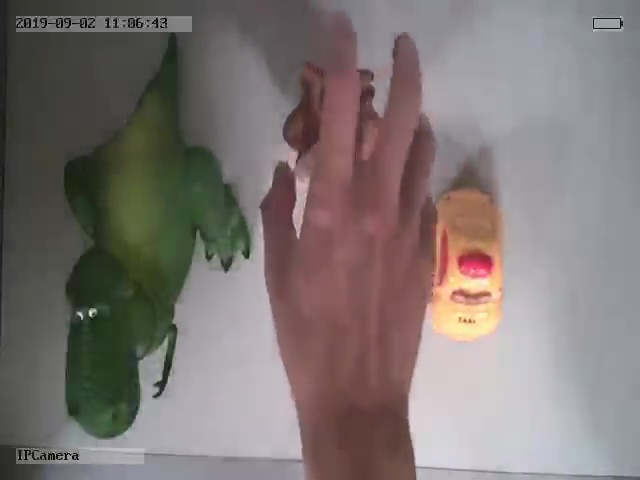rex: (63, 63, 254, 439)
